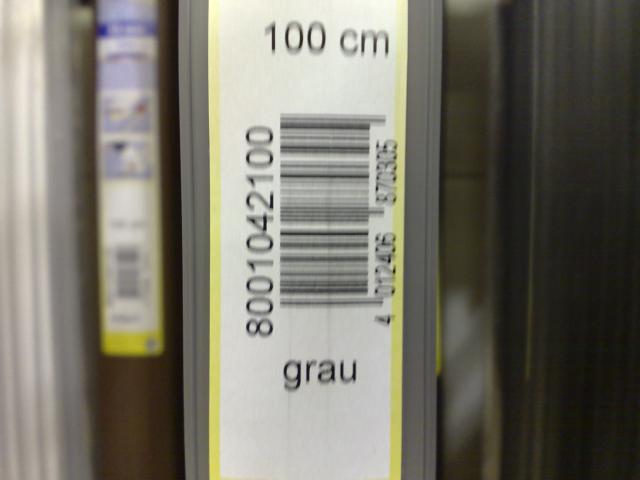Barkod: (277, 114, 368, 304)
